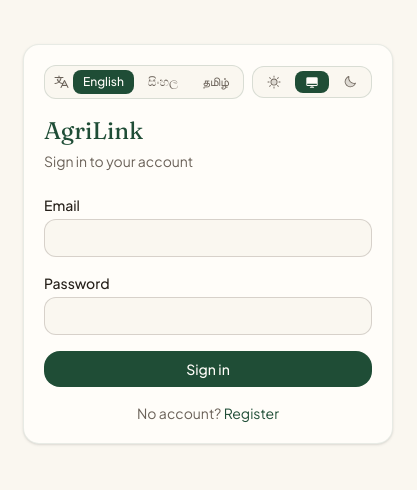
Test: LoginPage › says the server could not be reached when there is no response
In the field labelled "Email": (208, 238) 44,219 -> 372,257, type "farmer@agrilink.lk"
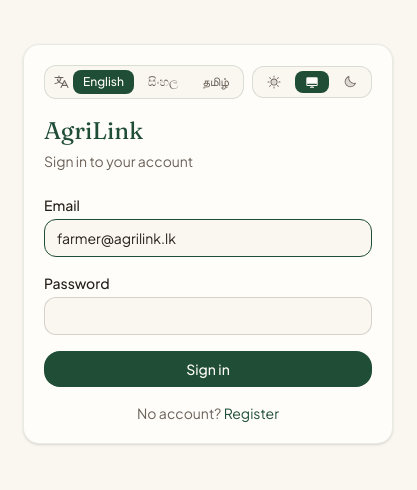
In the password field labelled "Password": (208, 316) 44,297 -> 372,335, type "Farmer@AgriLink.2026!"
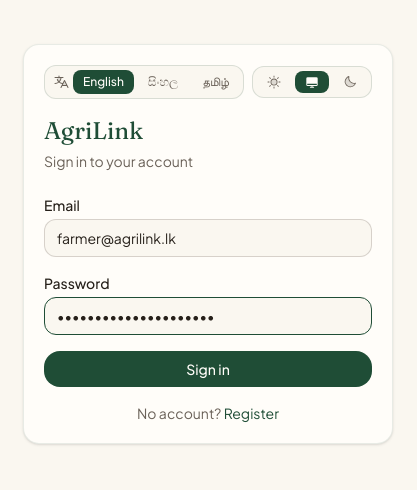
Click the button "Sign in": (208, 369) 44,351 -> 372,387
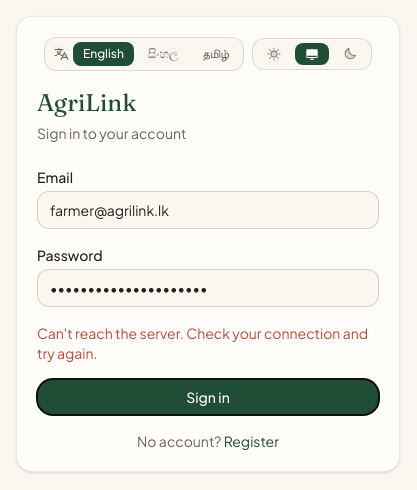
Expected: the text "Can't reach the server. Check your connection and try again." is shown, 37,323 -> 379,363
